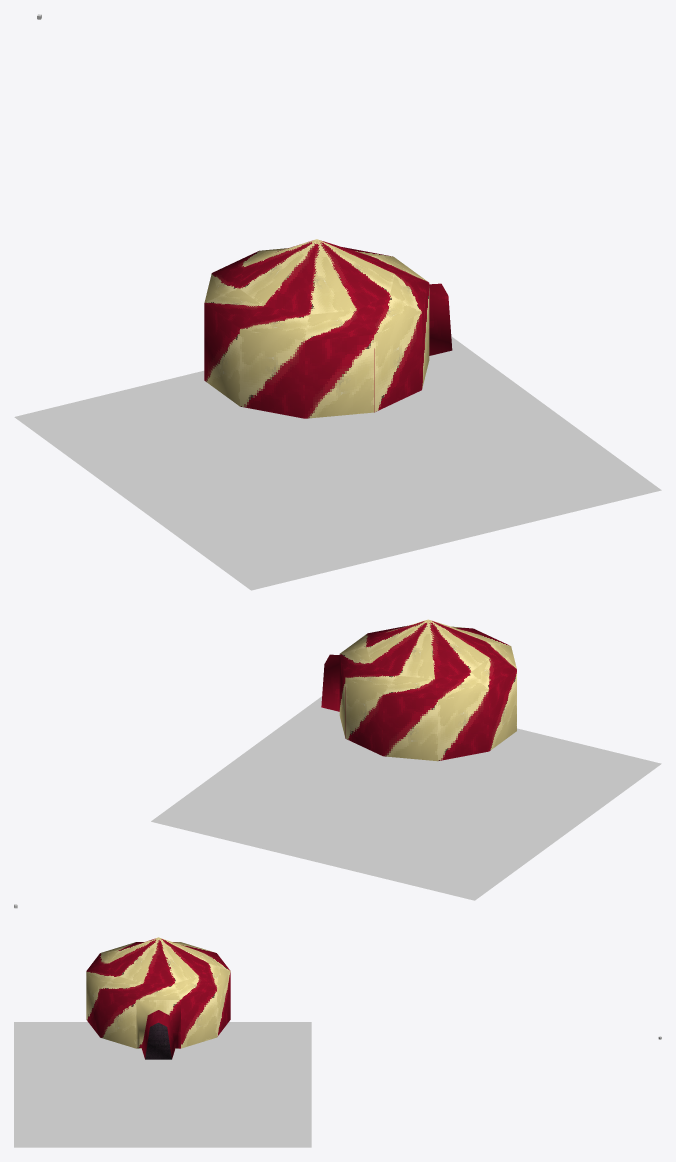
File: level 8 area 3.dae
3 views of the same model, one above another, from view 1: azimuth 30°, elevation 25°; view 2: azimuth 150°, elevation 25°; view 3: azimuth 270°, elevation 25° (orthographic). The views are drawn at different scales.
Parts seen in each view (by area): view 1: Plane, Circle; view 2: Plane, Circle; view 3: Plane, Circle.
Boxes of the visible parts, x1,y1,x2,y2 form: Plane: (14, 336, 661, 590); Circle: (204, 239, 452, 418); Plane: (151, 696, 661, 900); Circle: (321, 619, 516, 761); Plane: (14, 1022, 311, 1147); Circle: (86, 937, 230, 1059).
Size of the model in its own units: 247 by 538 by 128.
Materials: 5 (4 with a texture image).
